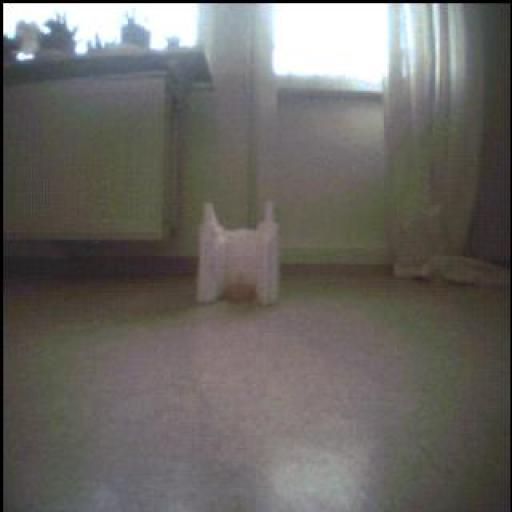Basket: (218, 269, 259, 311)
